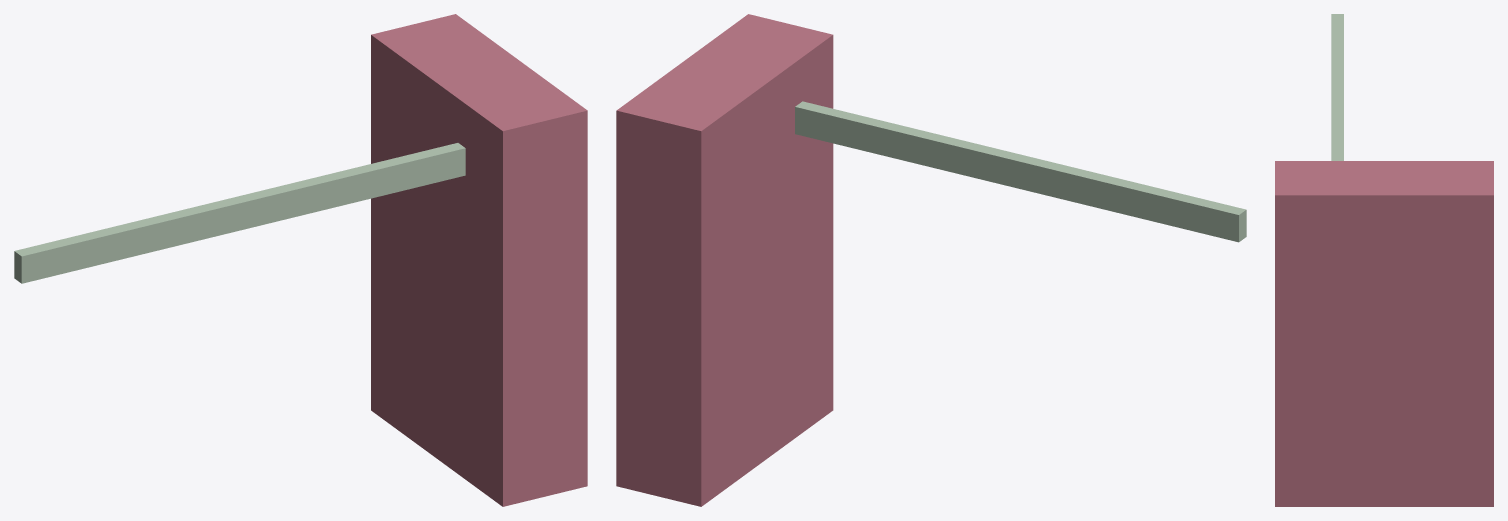
Rendered from 199507_pred.glb.
3 views of the same model, side by side, from view 1: azimuth 30°, elevation 25°; view 2: azimuth 150°, elevation 25°; view 3: azimuth 270°, elevation 25° (orthographic). The views are drawn at different scales.
Visible parts, largest first — view 1: world; view 2: world; view 3: world.
Boxes of the visible parts, x1,y1,x2,y2 form: world: [14, 14, 587, 506]; world: [616, 14, 1246, 506]; world: [1275, 14, 1493, 506].
Bounding box in the file's own units: 8.15 × 5.5 × 3.5.
